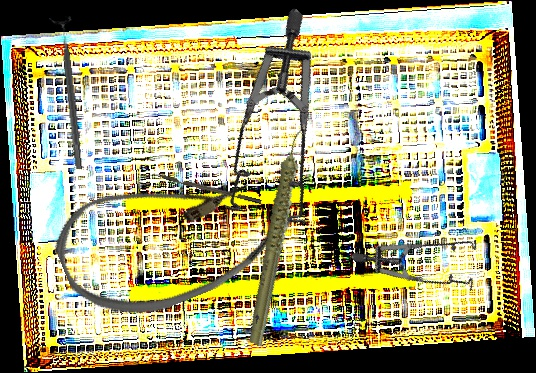Cannula: (44, 135, 303, 339)
Chopper: (144, 169, 262, 210)
Fixation Ring: (48, 15, 91, 171)
Handpiece: (205, 126, 354, 348)
Speculum: (164, 7, 408, 254), (349, 185, 497, 327)
